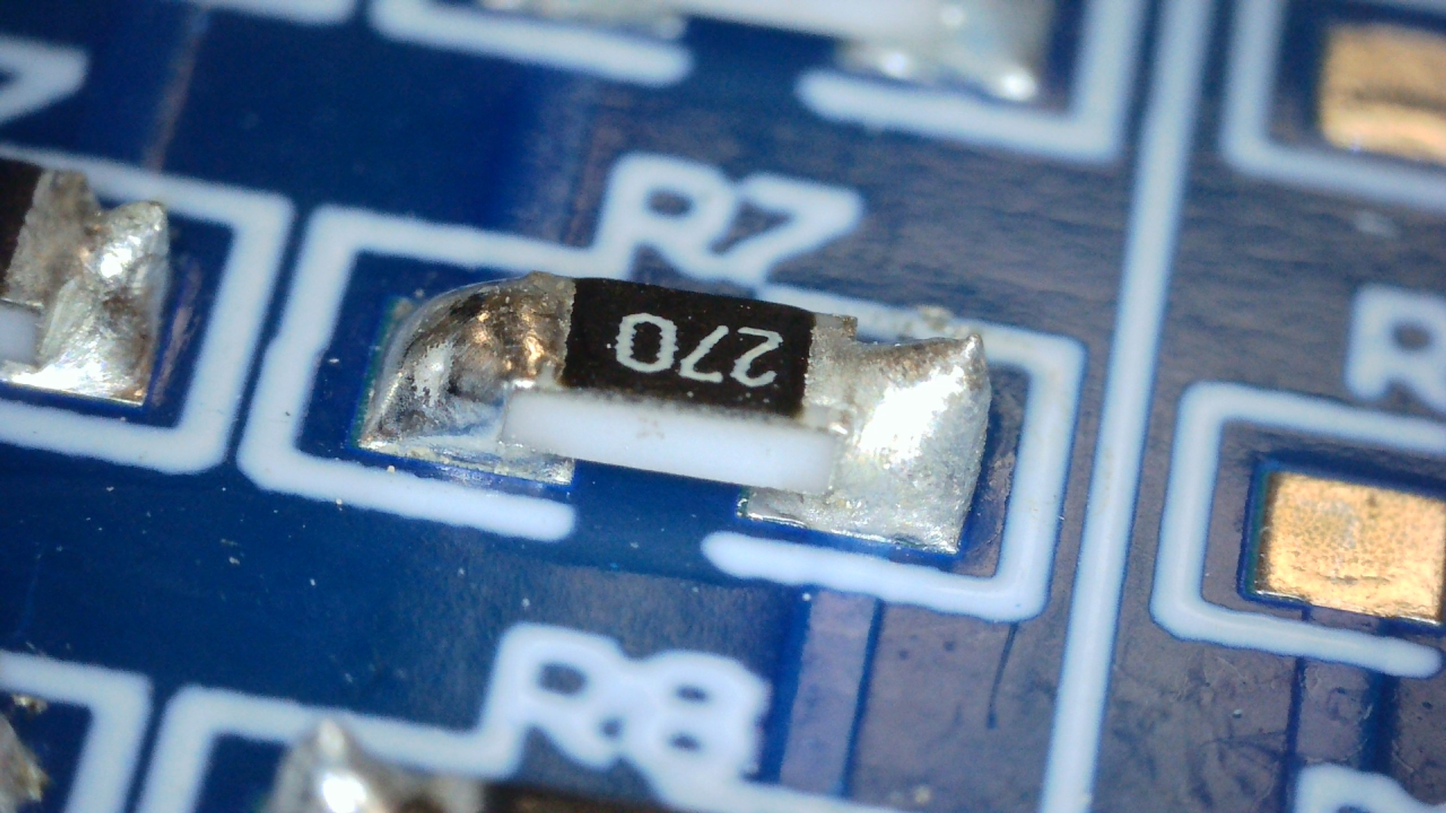NG: (767, 334, 990, 549), (364, 270, 575, 451)
